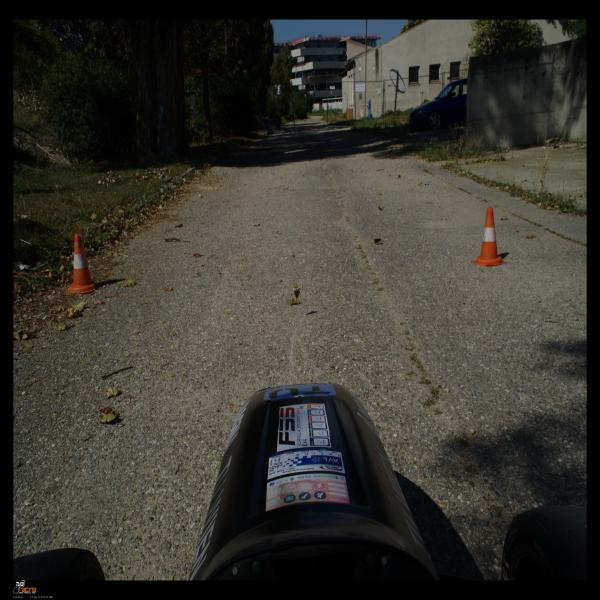orange_cone: (64, 234, 100, 294), (471, 208, 506, 266)
